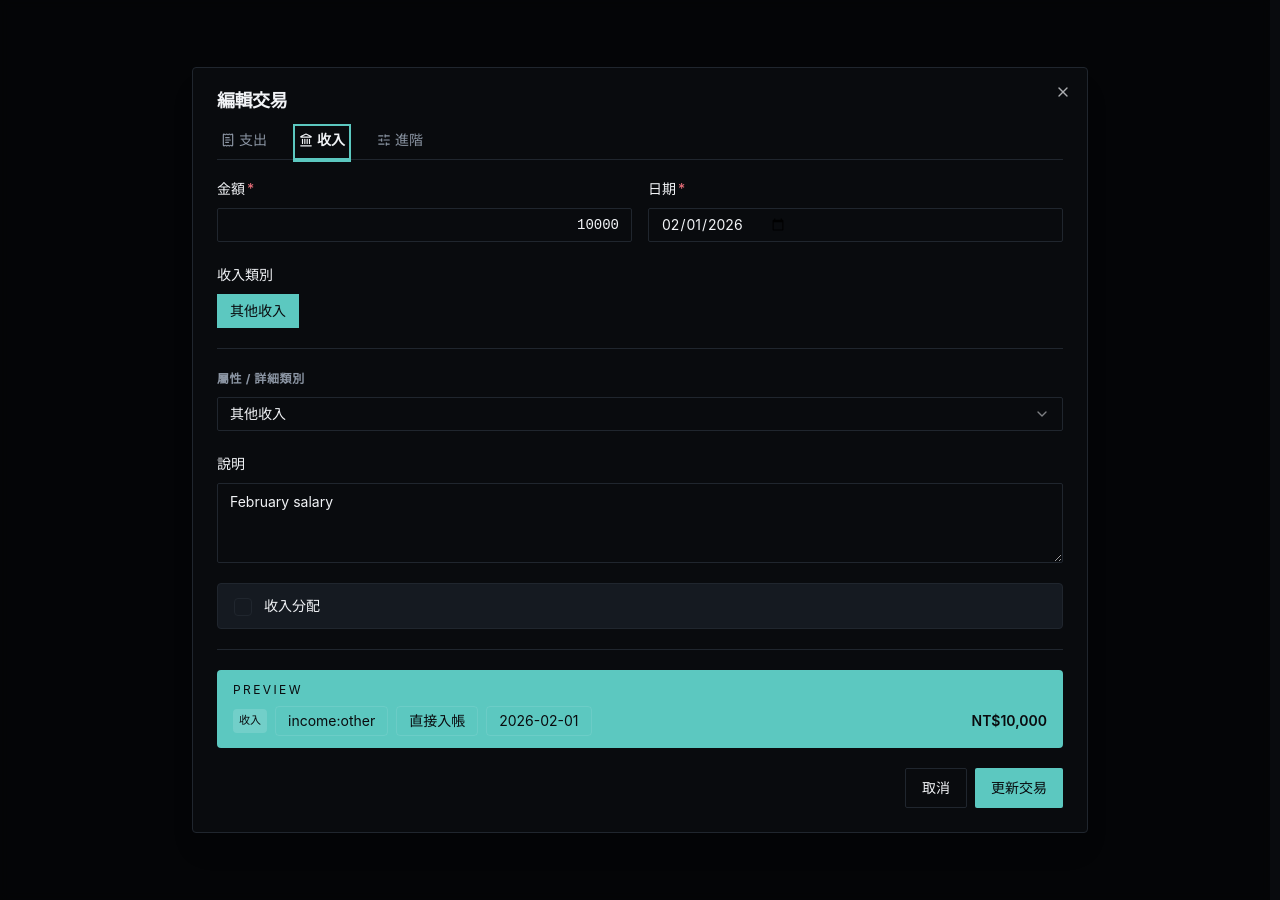
Test case: TransactionForm › hydrates an edited transaction into its own tab
Expected: the number field labelled "金額*" holds "10000", left=217, top=208, right=632, bottom=242
Expected: the text box labelled "說明" holds "February salary", left=217, top=483, right=1063, bottom=563
Step 1. Press the mouse on the tab "支出" → (244, 143), box left=217, top=126, right=271, bottom=160
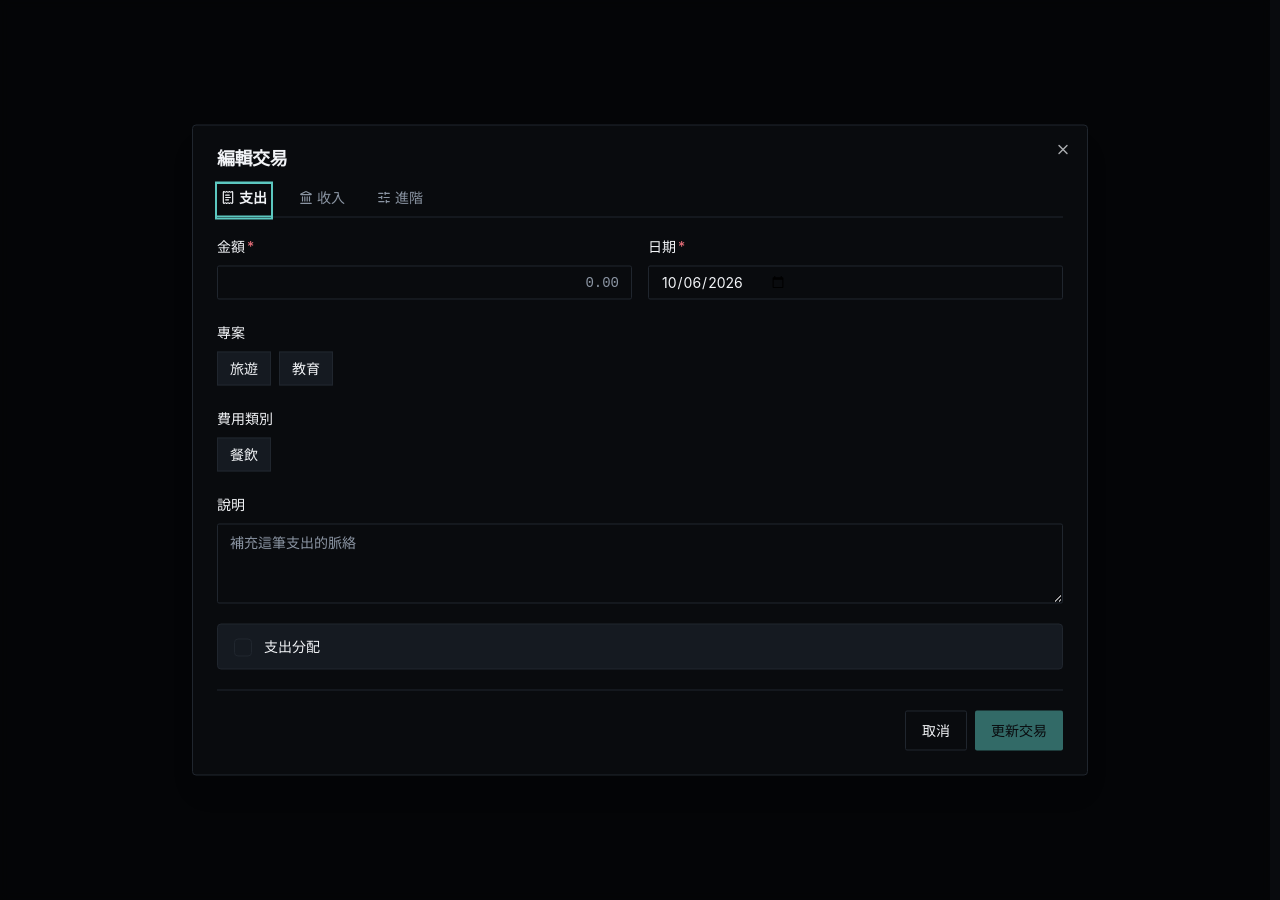
Result: the number field labelled "金額*" is not empty at left=217, top=266, right=632, bottom=300
